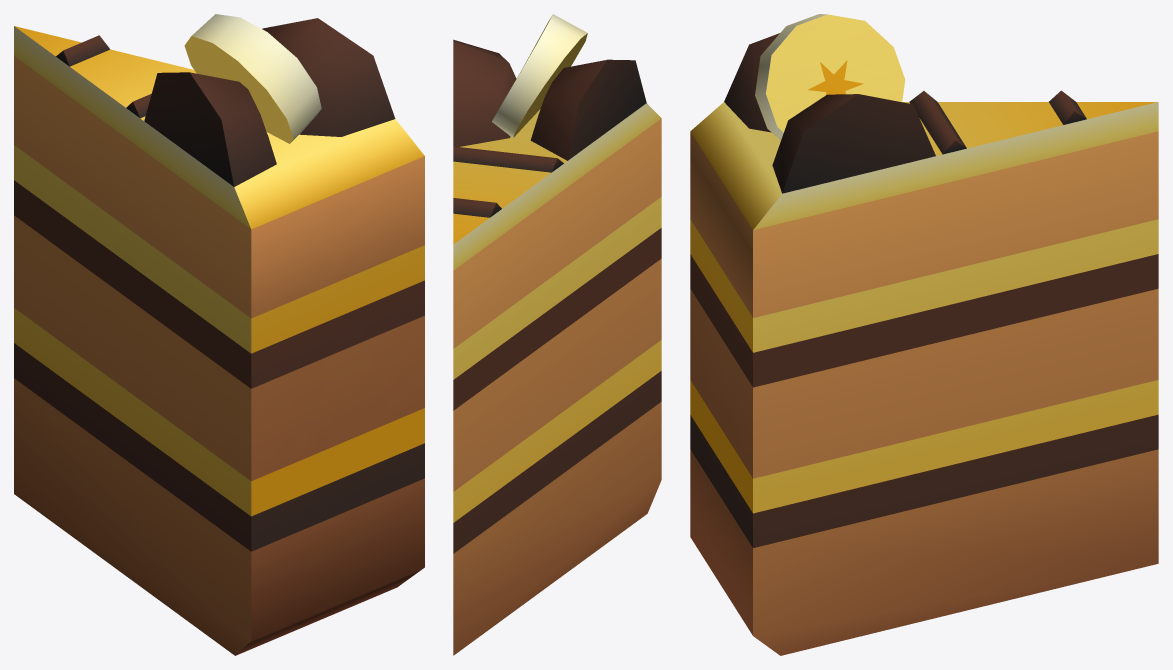
File: m_BananaCake01_Slice.fbx
3 renders of one model, left to right at view 1: azimuth 30°, elevation 25°; view 2: azimuth 150°, elevation 25°; view 3: azimuth 270°, elevation 25°, orthographic. The views are drawn at different scales.
Visible parts, largest first — view 1: m_BananaCake01_Slice; view 2: m_BananaCake01_Slice; view 3: m_BananaCake01_Slice.
Boxes of the visible parts, x1,y1,x2,y2 form: m_BananaCake01_Slice: (14,14,424,655); m_BananaCake01_Slice: (453,14,661,655); m_BananaCake01_Slice: (690,14,1158,655).
Size of the model in its own units: 5.88 by 16 by 11.76.
